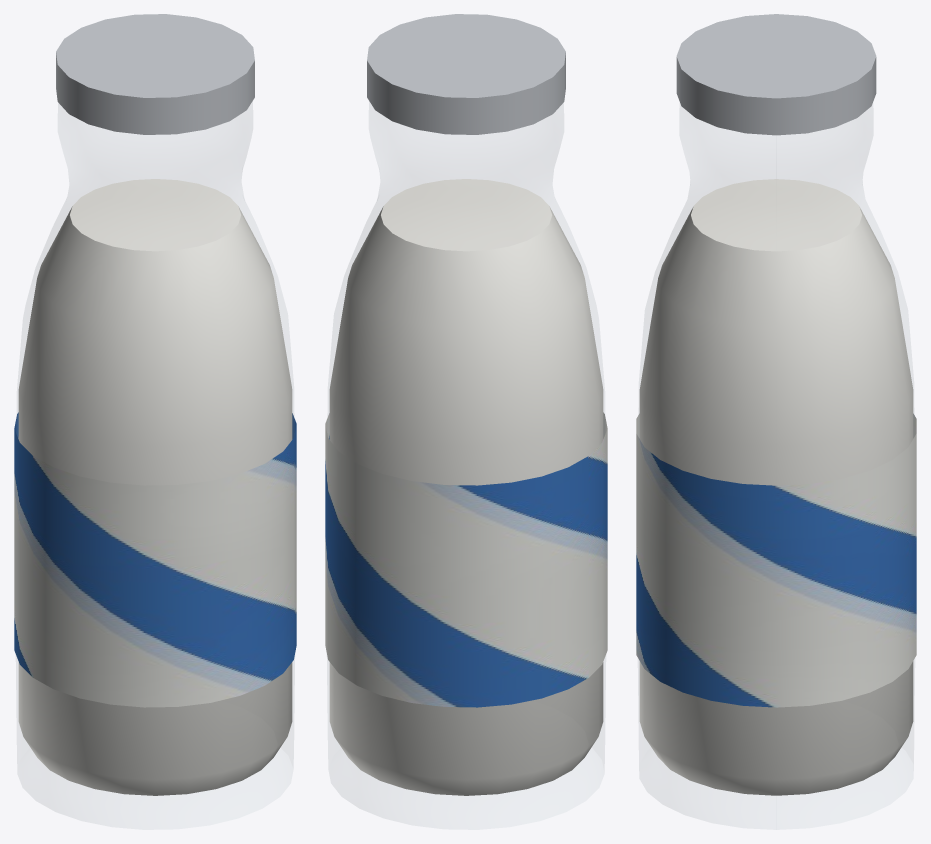
Rendered from bottle_milk_bottle_glass.glb.
The picture shows the model from 3 angles, left to right: view 1: azimuth 30°, elevation 25°; view 2: azimuth 150°, elevation 25°; view 3: azimuth 270°, elevation 25°; orthographic projection.
Visible parts, largest first — view 1: bottle_milk_bottle_glass; view 2: bottle_milk_bottle_glass; view 3: bottle_milk_bottle_glass.
Boxes of the visible parts, bbox=[...] form: bottle_milk_bottle_glass: bbox=[14, 14, 296, 829]; bottle_milk_bottle_glass: bbox=[325, 14, 607, 829]; bottle_milk_bottle_glass: bbox=[636, 14, 916, 829].
Bounding box in the file's own units: 0.0692 × 0.1934 × 0.0687.
Materials: 4 (1 with a texture image).
